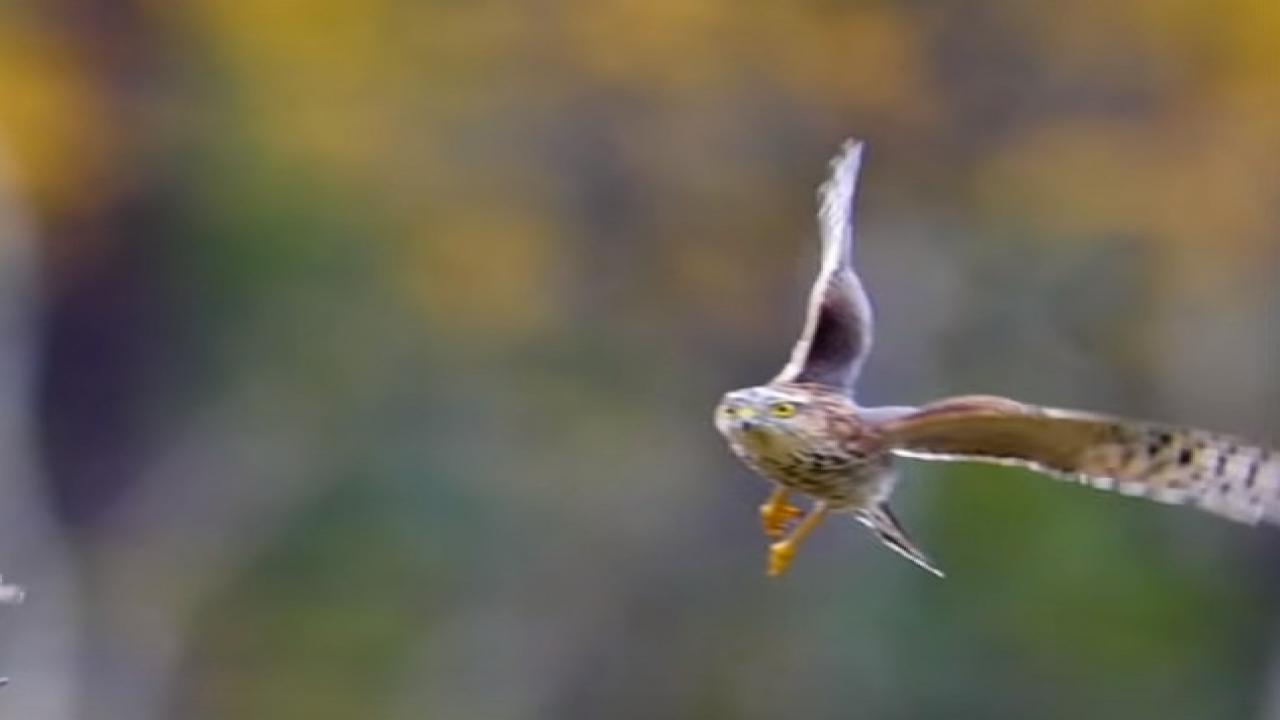Bird: (694, 128, 1280, 600)
